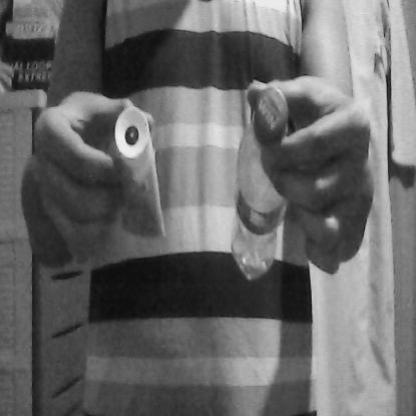Plastic Bottle: (221, 84, 292, 285)
